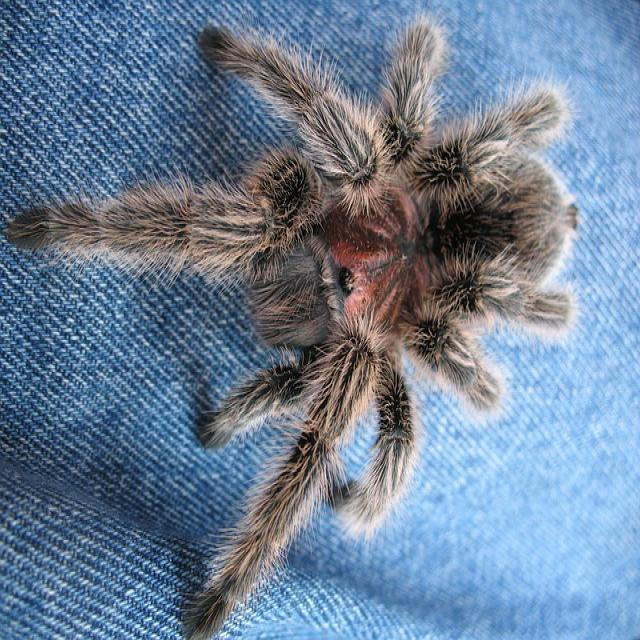spyder: (9, 18, 576, 636)
